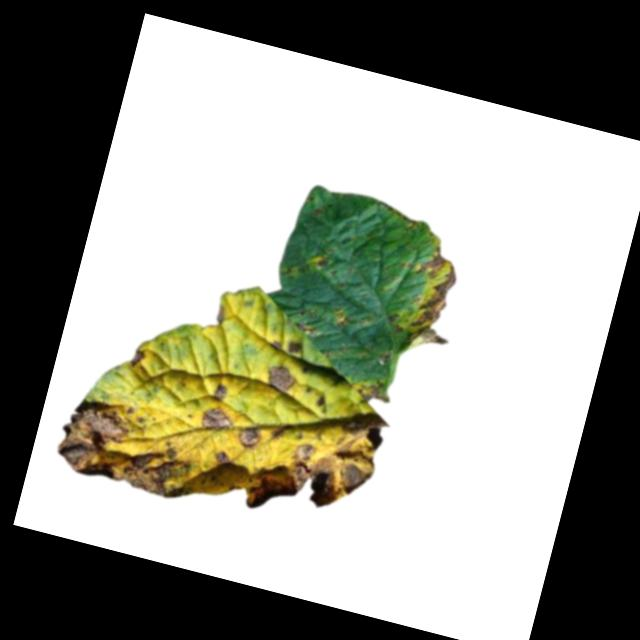Early_blight: (242, 398, 385, 535), (44, 388, 202, 502), (397, 238, 472, 360), (350, 374, 395, 407), (262, 362, 298, 394), (198, 404, 234, 433), (233, 421, 261, 450), (128, 344, 148, 369), (210, 380, 230, 403), (284, 338, 306, 356), (313, 252, 332, 270), (212, 447, 231, 465)
